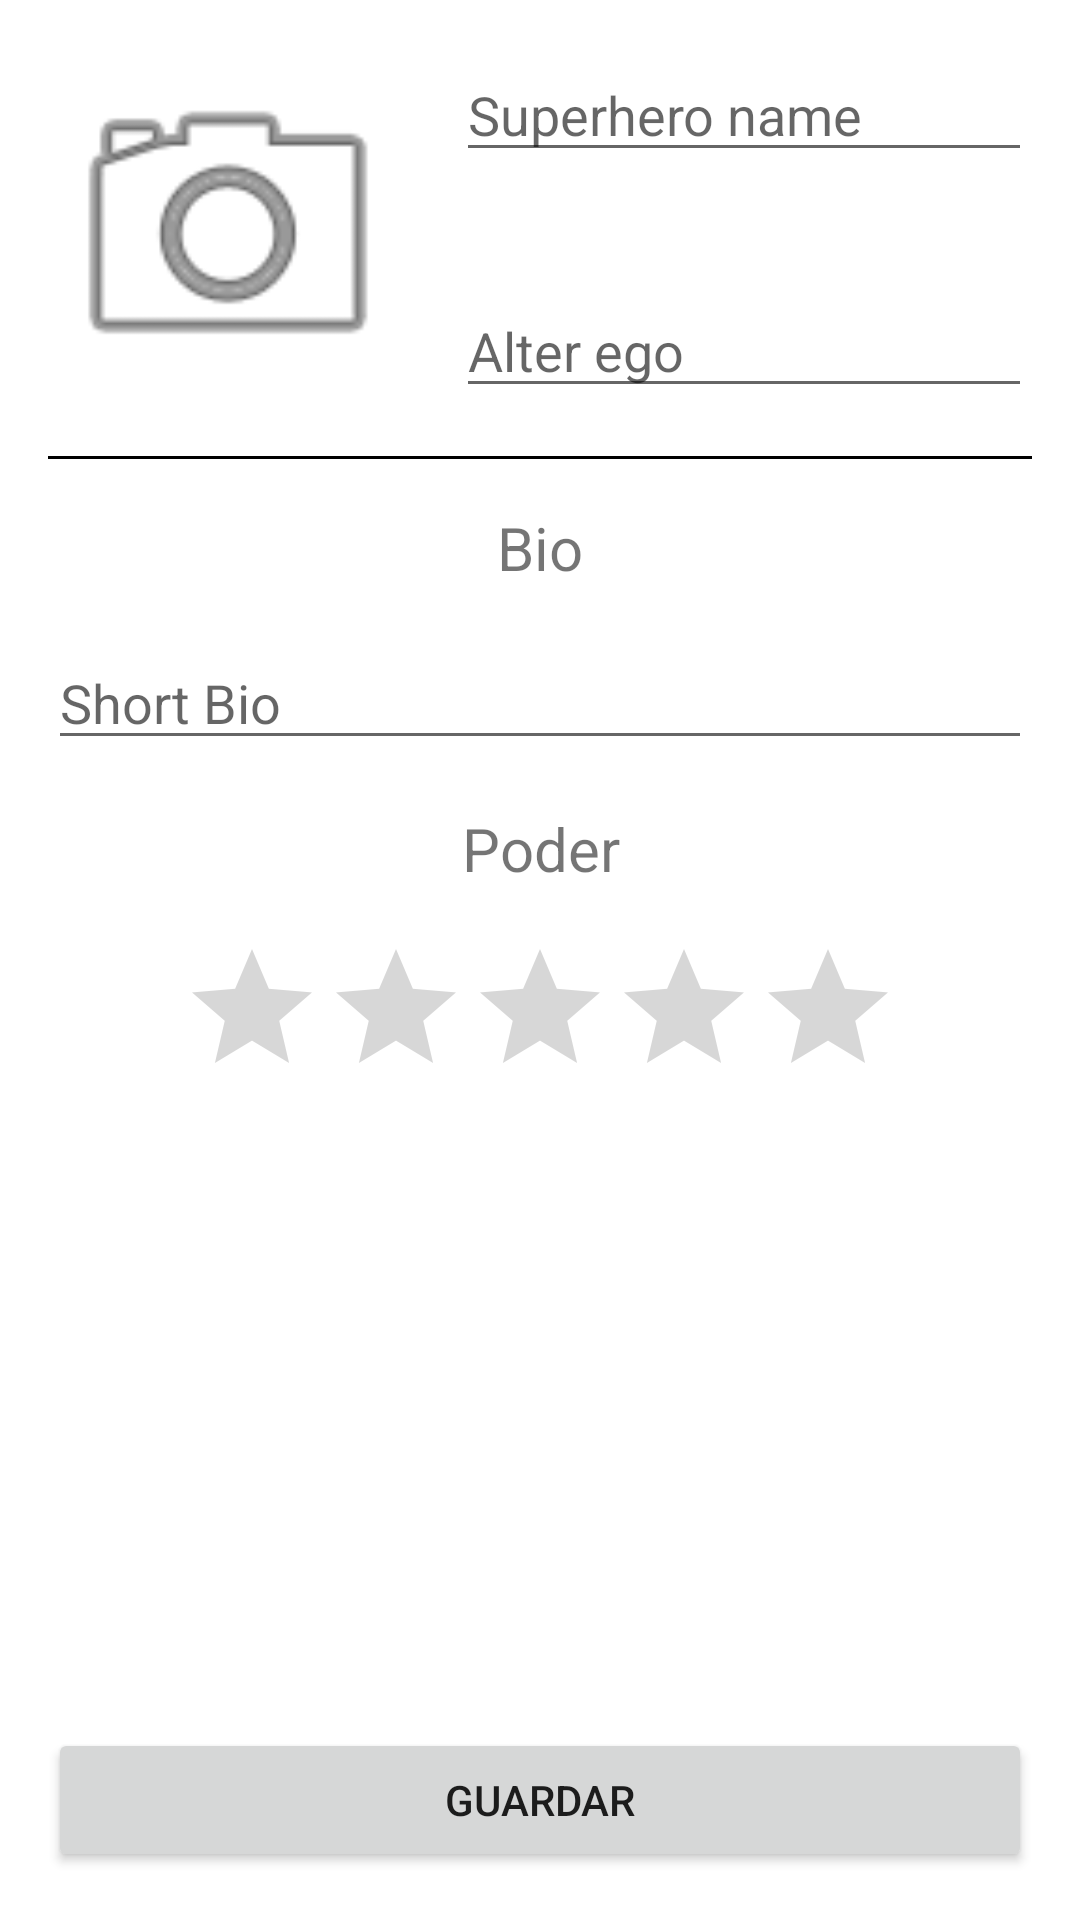

Icons on this 1080 × 1920 Android screen, each with its box as (x1, y1, x2, y2):
camera: (89, 111, 367, 333)
